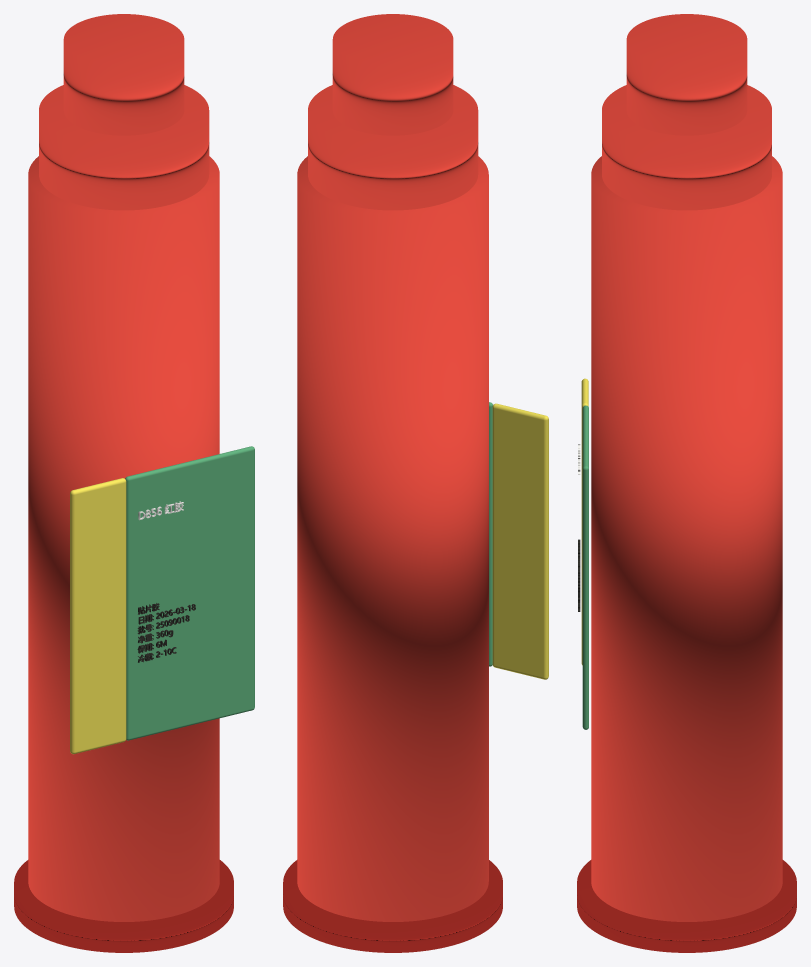
File: smt-red-adhesive-syringe.glb
The picture shows the model from 3 angles, left to right: view 1: azimuth 30°, elevation 25°; view 2: azimuth 150°, elevation 25°; view 3: azimuth 270°, elevation 25°; orthographic projection.
Visible parts, largest first — view 1: vertical_red_syringe_cartridge, 针筒贴合绿色中文标签, 针筒贴合黄色警示卡片, top_stop_cap, top_button, bottom_round_lip, 针筒详情_中文; view 2: vertical_red_syringe_cartridge, 针筒贴合黄色警示卡片, top_stop_cap, top_button, bottom_round_lip, 针筒贴合绿色中文标签; view 3: vertical_red_syringe_cartridge, top_stop_cap, top_button, bottom_round_lip, 针筒贴合绿色中文标签, 针筒贴合黄色警示卡片.
Boxes of the visible parts, x1=… form: vertical_red_syringe_cartridge: x1=28, y1=156, x2=219, y2=921; 针筒贴合绿色中文标签: x1=125, y1=446, x2=254, y2=740; 针筒贴合黄色警示卡片: x1=70, y1=478, x2=126, y2=754; top_stop_cap: x1=39, y1=85, x2=209, y2=210; top_button: x1=63, y1=14, x2=184, y2=135; bottom_round_lip: x1=14, y1=860, x2=233, y2=952; 针筒详情_中文: x1=137, y1=603, x2=195, y2=662; vertical_red_syringe_cartridge: x1=297, y1=156, x2=488, y2=921; 针筒贴合黄色警示卡片: x1=492, y1=403, x2=548, y2=679; top_stop_cap: x1=308, y1=85, x2=478, y2=210; top_button: x1=332, y1=14, x2=453, y2=135; bottom_round_lip: x1=283, y1=860, x2=502, y2=952; 针筒贴合绿色中文标签: x1=489, y1=402, x2=492, y2=666; vertical_red_syringe_cartridge: x1=591, y1=156, x2=782, y2=921; top_stop_cap: x1=602, y1=85, x2=771, y2=210; top_button: x1=626, y1=14, x2=747, y2=135; bottom_round_lip: x1=577, y1=860, x2=796, y2=952; 针筒贴合绿色中文标签: x1=582, y1=405, x2=588, y2=729; 针筒贴合黄色警示卡片: x1=581, y1=378, x2=588, y2=665.
Size of the model in its own units: 0.65 by 2.7 by 0.62.
